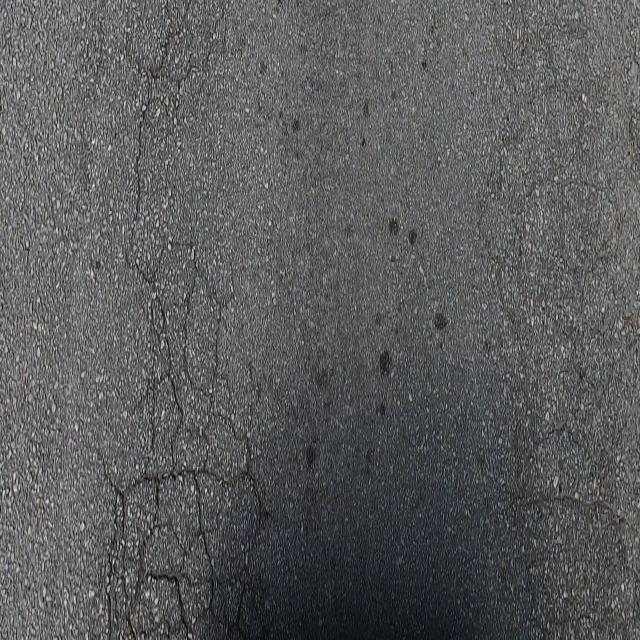Retak-Buaya: (473, 2, 639, 628), (99, 224, 274, 635)
Retak-Memanjang: (123, 0, 202, 277)
